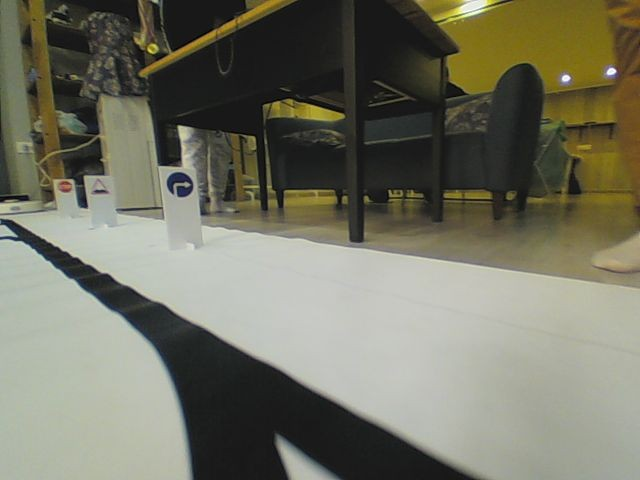Nerov: (88, 178, 109, 197)
Right: (165, 170, 194, 199)
